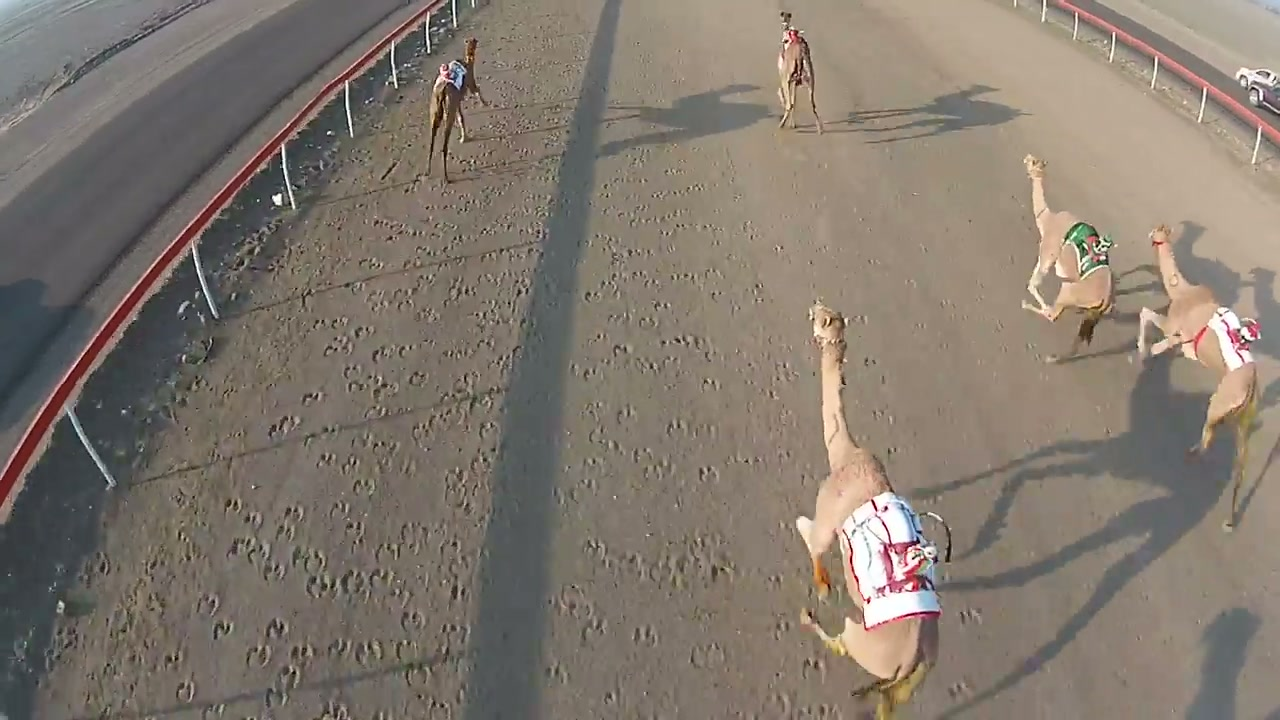animal_foot_print: (189, 184, 468, 719)
